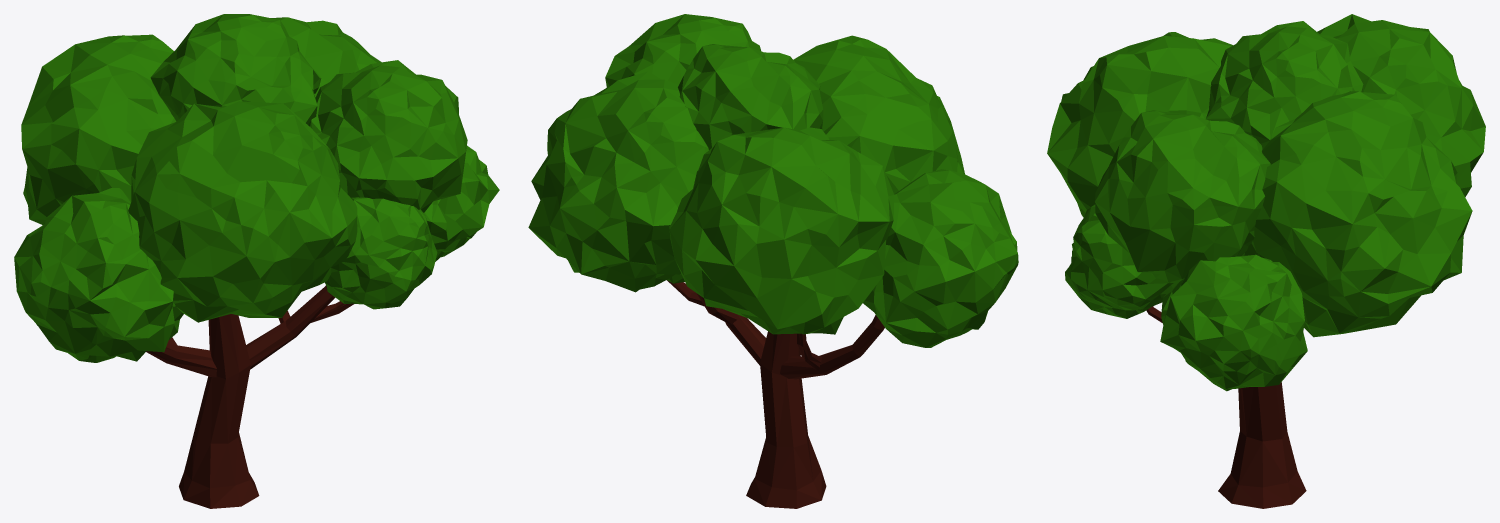
The model's file is Tree_3.obj.
The picture shows the model from 3 angles, left to right: view 1: azimuth 30°, elevation 25°; view 2: azimuth 150°, elevation 25°; view 3: azimuth 270°, elevation 25°; orthographic projection. The views are drawn at different scales.
Parts seen in each view (by area): view 1: Tree.3; view 2: Tree.3; view 3: Tree.3.
Boxes of the visible parts, bbox=[...] form: Tree.3: bbox=[14, 14, 499, 508]; Tree.3: bbox=[528, 14, 1018, 508]; Tree.3: bbox=[1047, 14, 1485, 508].
Bounding box in the file's own units: 8.18 × 7.62 × 6.38.
